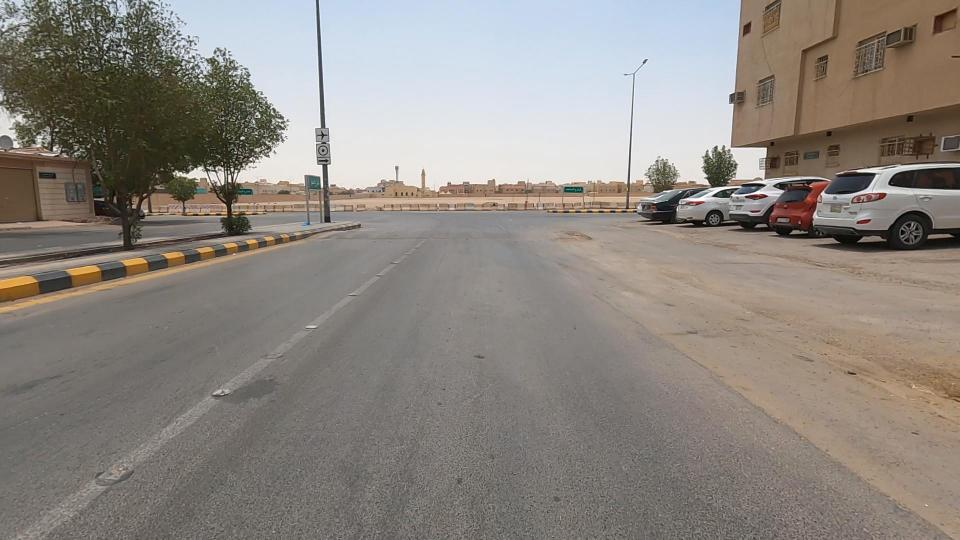POTHOLES: (779, 300, 960, 429), (529, 206, 648, 279)
